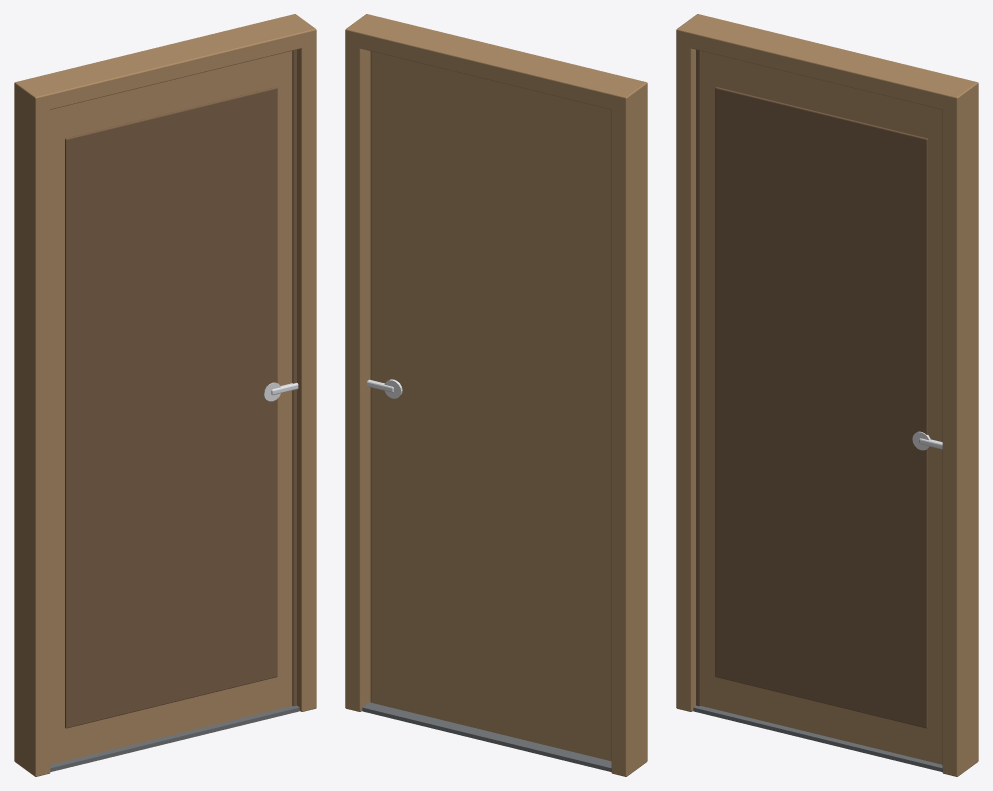
Rendered from door-single-flush-910.glb.
3 renders of one model, left to right at view 1: azimuth 30°, elevation 25°; view 2: azimuth 150°, elevation 25°; view 3: azimuth 330°, elevation 25°, orthographic.
Visible parts, largest first — view 1: LeafPanel, Leaf, JambL, JambR, Head, StopR, Threshold; view 2: Leaf, JambL, JambR, Head, Threshold; view 3: LeafPanel, Leaf, JambR, JambL, Head, StopL, Threshold.
Boxes of the visible parts, left/top/right/bottom form: LeafPanel: left=65, top=87, right=277, bottom=728; Leaf: left=50, top=51, right=292, bottom=764; JambL: left=14, top=84, right=50, bottom=776; JambR: left=297, top=30, right=316, bottom=711; Head: left=14, top=14, right=316, bottom=112; StopR: left=292, top=49, right=296, bottom=706; Threshold: left=50, top=705, right=299, bottom=771; Leaf: left=370, top=51, right=611, bottom=761; JambL: left=611, top=84, right=647, bottom=776; JambR: left=345, top=30, right=370, bottom=711; Head: left=345, top=14, right=647, bottom=112; Threshold: left=362, top=701, right=611, bottom=771; LeafPanel: left=715, top=87, right=927, bottom=728; Leaf: left=700, top=51, right=942, bottom=764; JambR: left=942, top=84, right=978, bottom=776; JambL: left=676, top=30, right=695, bottom=711; Head: left=676, top=14, right=978, bottom=112; StopL: left=696, top=49, right=700, bottom=706; Threshold: left=693, top=705, right=942, bottom=771.
Bounding box in the file's own units: 0.91 × 2.1 × 0.12.
